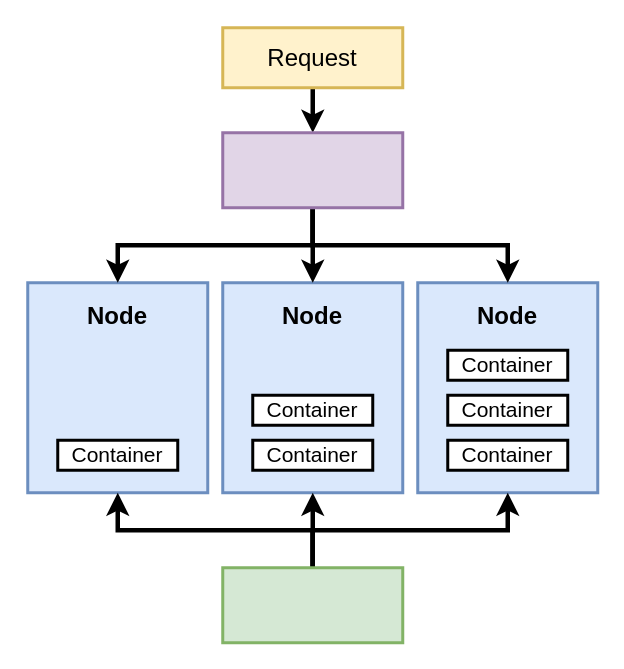
The diagram is 624 pixels wide and 669 high, and some of its shapes have lost their labels. The shapes that lost their labels are listed below. From the top down, each one's centre as x and y in pixels, then its label:
At (x=312, y=169): "Load Balancer".
At (x=312, y=605): "Master".
